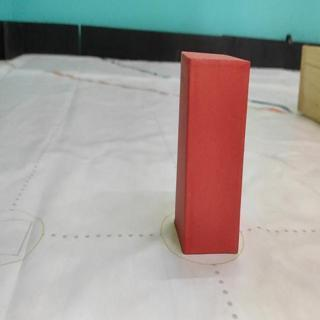redbox: (175, 52, 250, 253)
